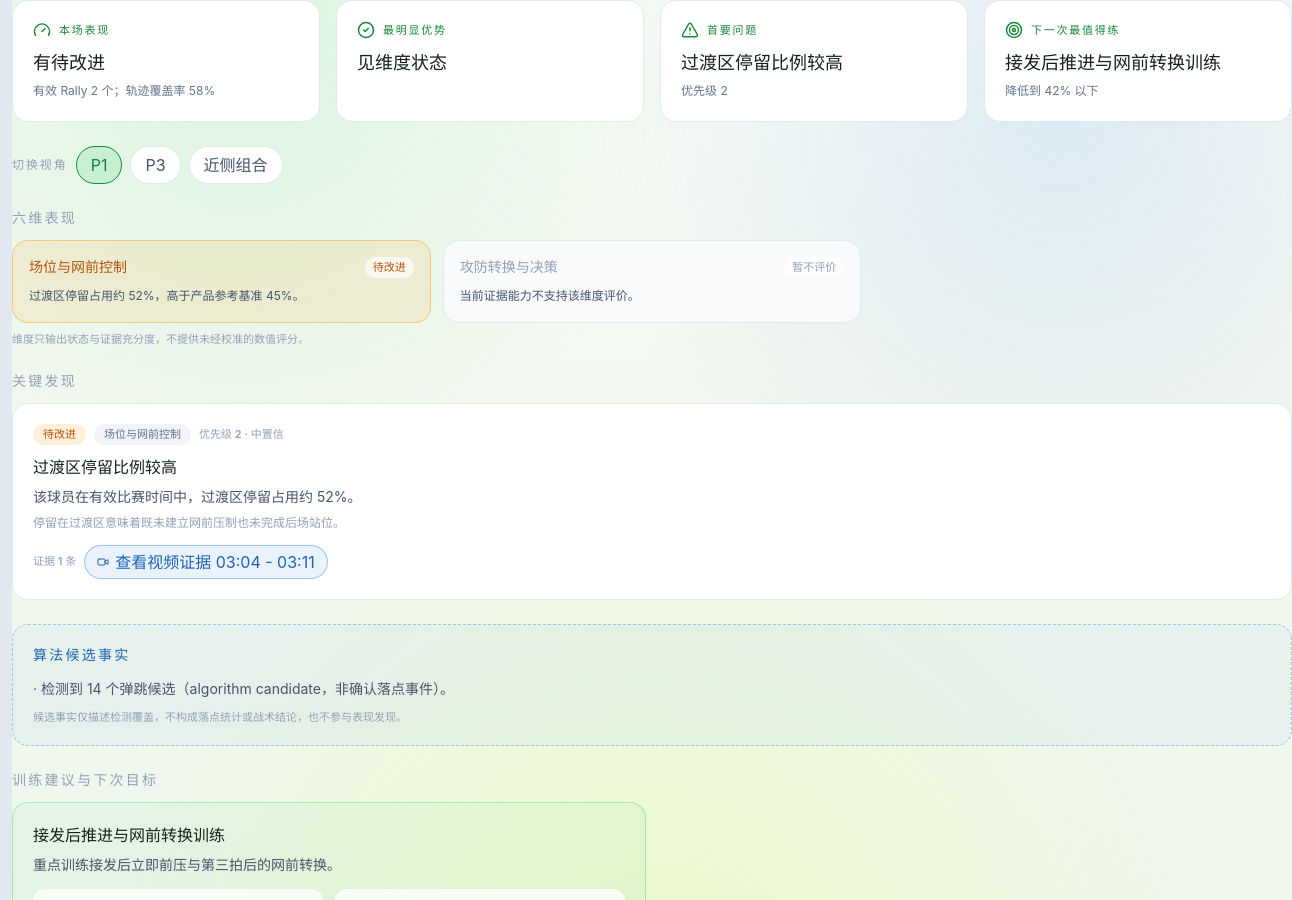
it: PerformanceInsightsPanel › filters findings and recommendations when switching subject chips
切到 P3：P3 的 finding 出现，P1 的 finding 卡消失（总结卡仍保留全场首要问题）。
Click the button "P3". click: [155, 165]
box: [130,146,180,184]
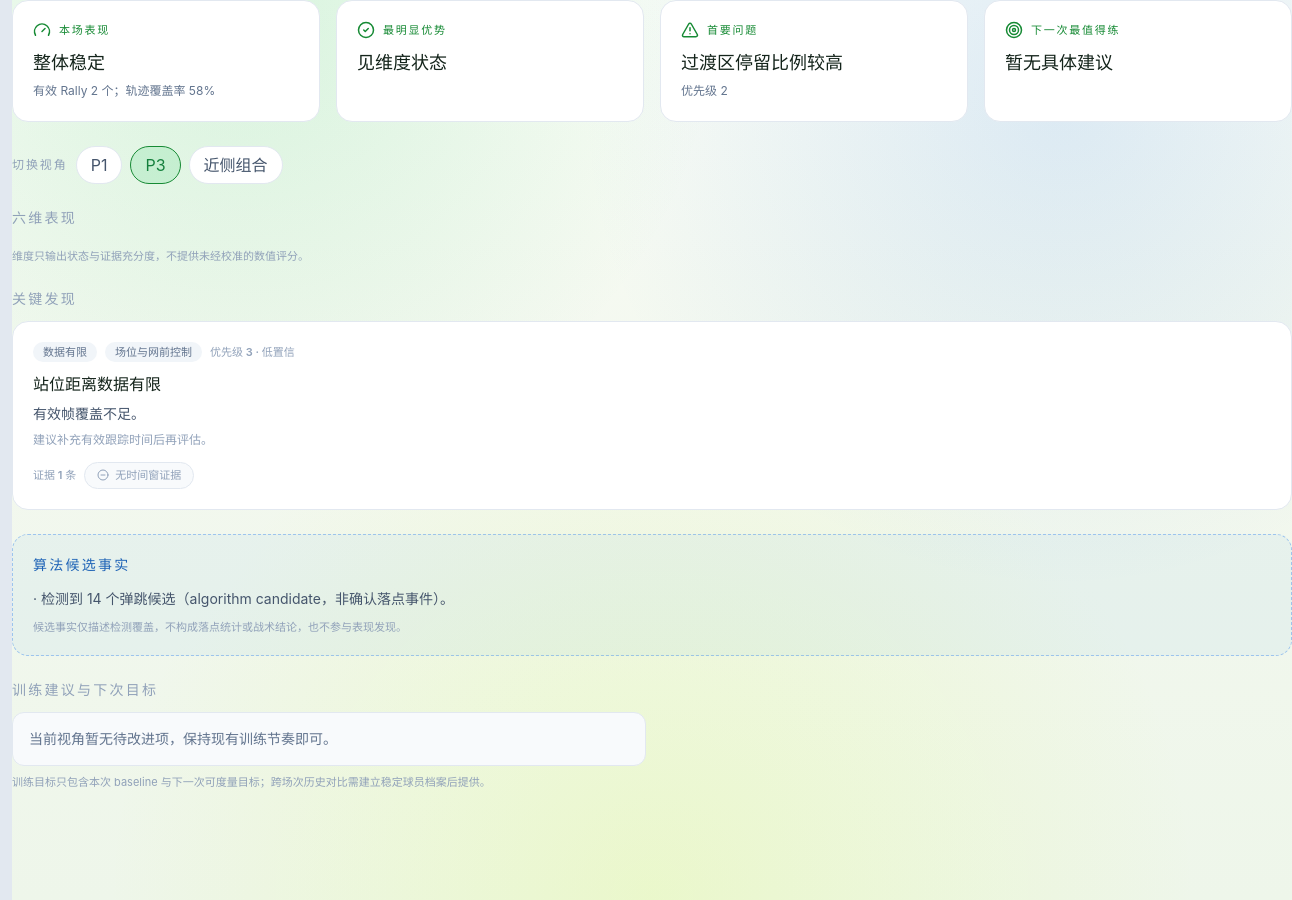
Check: the text "过渡区停留比例较高" is shown once, box [681,52,843,73]
Check: the heading "站位距离数据有限" is shown, box [33,374,161,394]
Check: the text "接发后推进与网前转换训练" is gone
